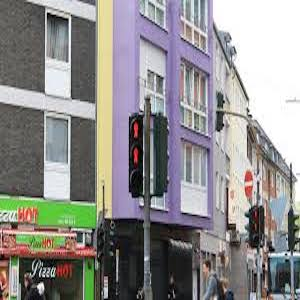red: (132, 146, 142, 168), (132, 119, 141, 139)
